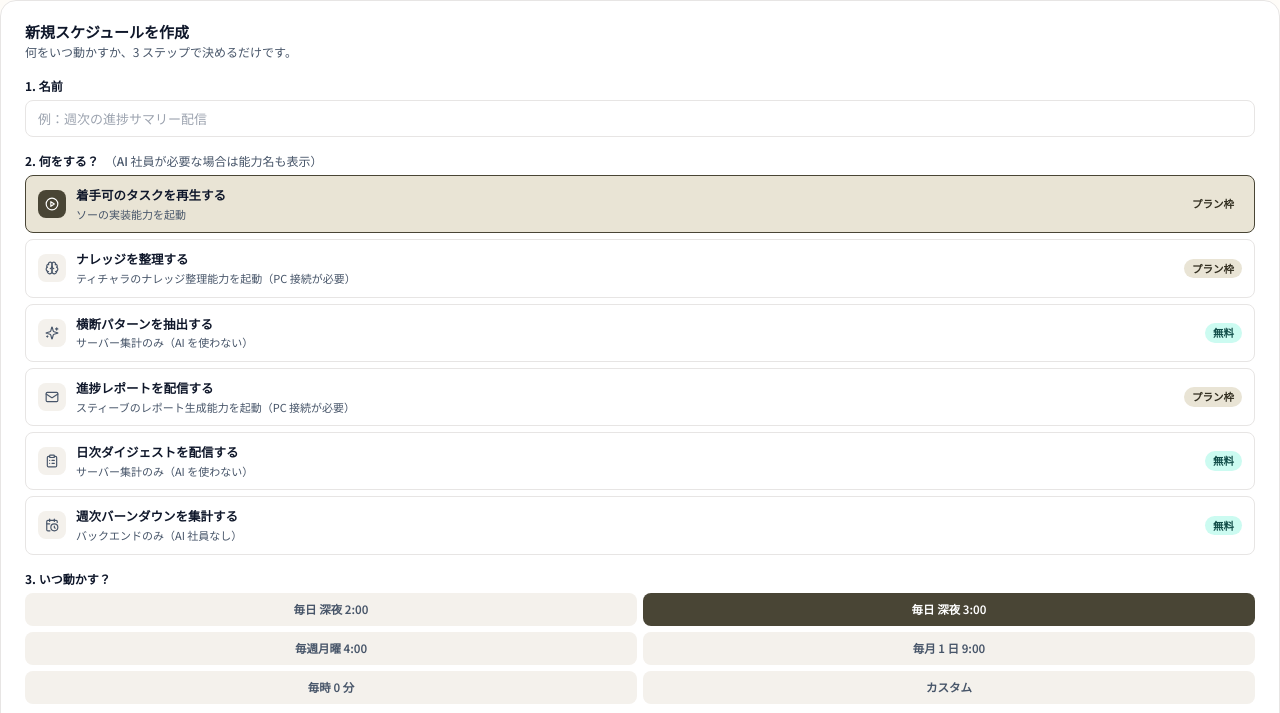
ScheduleBuilder (T-UC-25 create) › disables submit until a name is entered
In the field labelled "1. 名前": (640, 118) [25,100,1255,137], type "x"
(page scrolled)
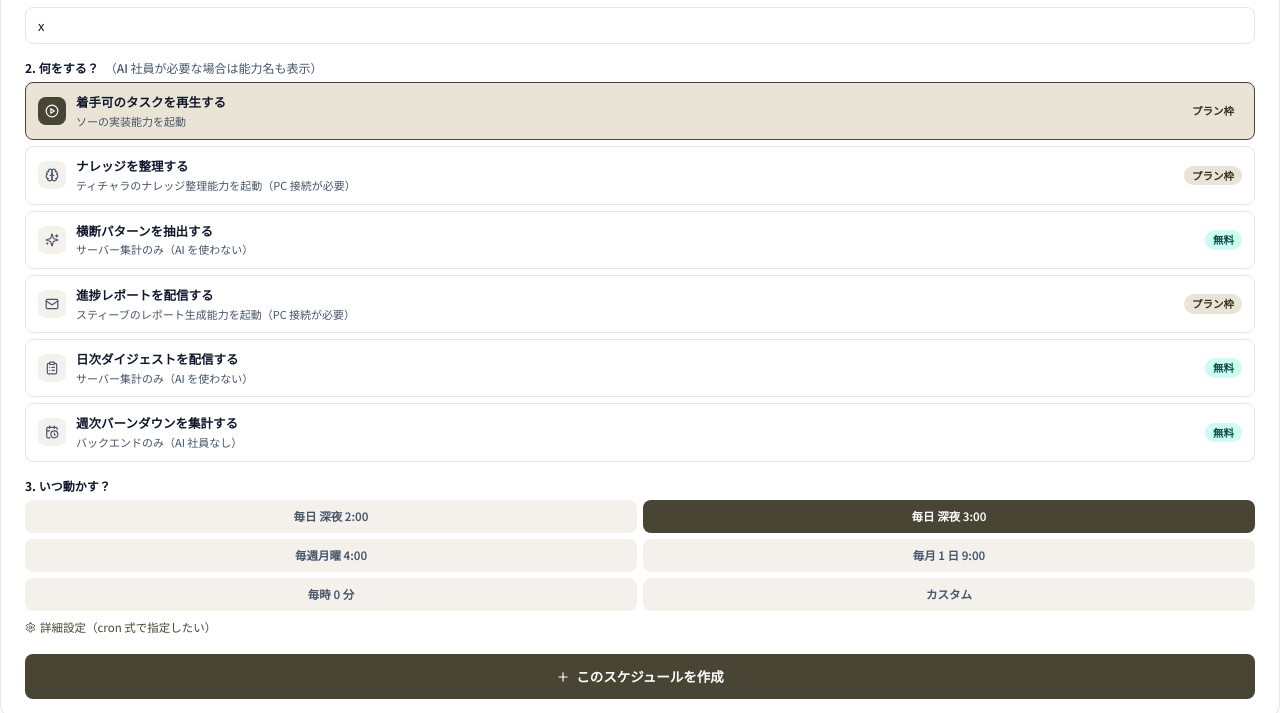
Check: the button "このスケジュールを作成" is enabled, box [25,654,1255,699]
